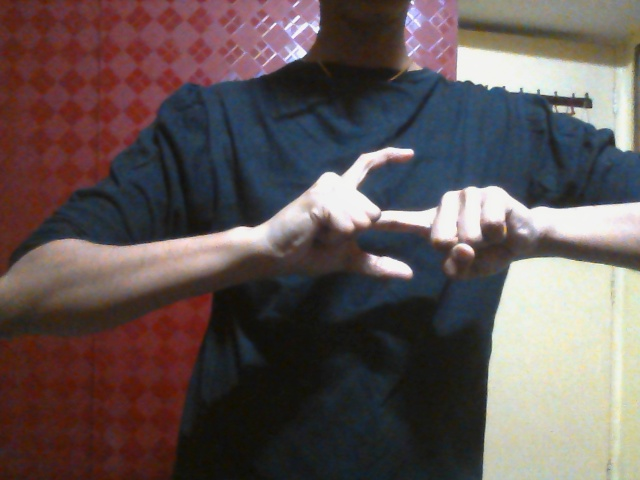E: (273, 145, 541, 294)
